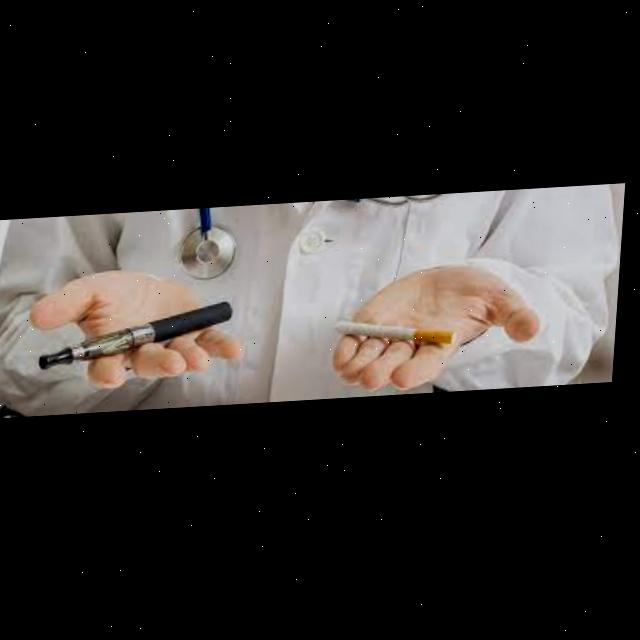cigarette: (338, 317, 465, 354)
vape: (42, 301, 240, 372)
